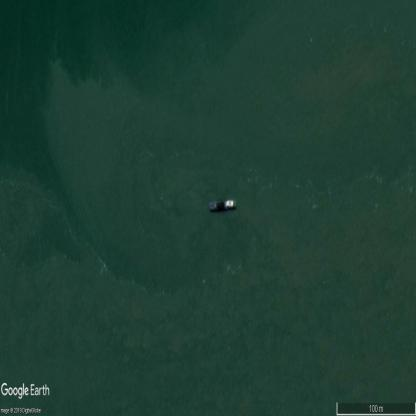ship: (207, 197, 237, 214)
